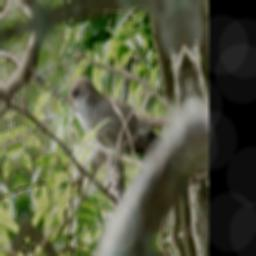Cuckoo: (58, 44, 176, 185)
